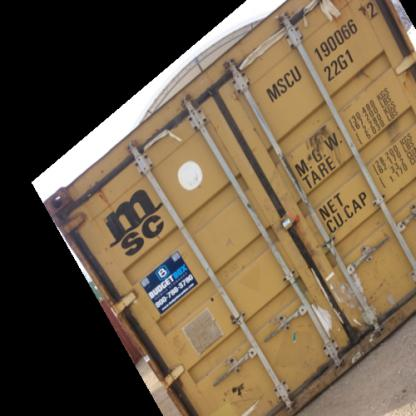Damage: (300, 256, 395, 342), (214, 372, 283, 414), (311, 119, 351, 179), (341, 44, 389, 90), (174, 86, 238, 118), (158, 306, 193, 356), (82, 172, 120, 216)
